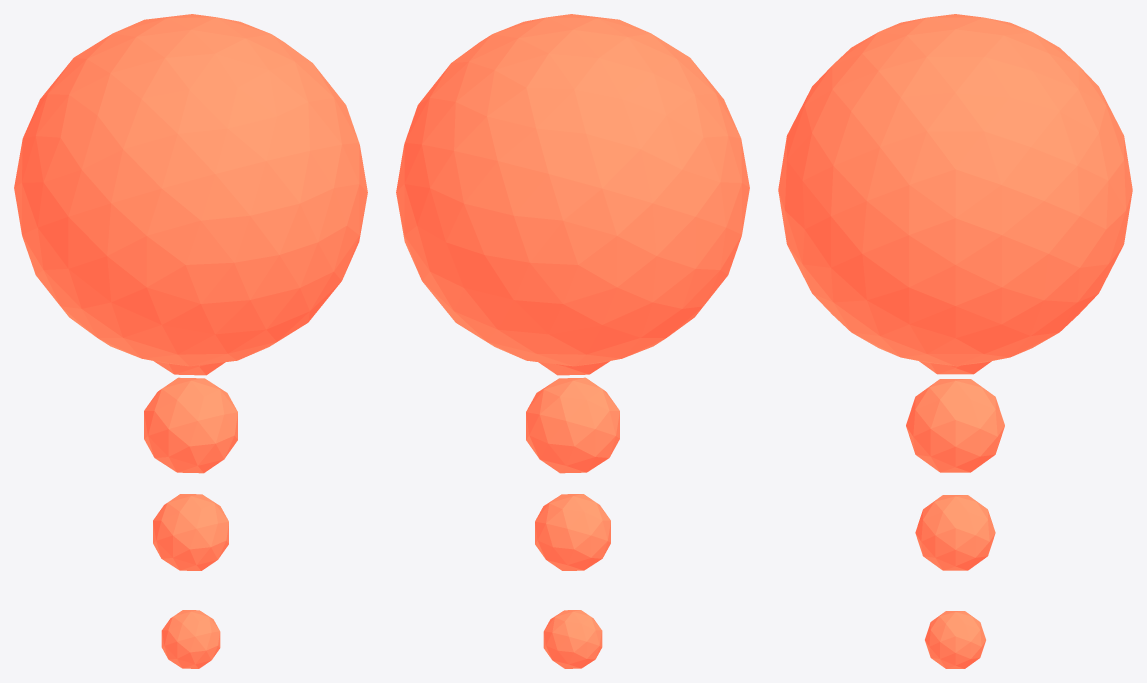
Rendered from sinal_luz_vermelha.glb.
The picture shows the model from 3 angles, left to right: view 1: azimuth 30°, elevation 25°; view 2: azimuth 150°, elevation 25°; view 3: azimuth 270°, elevation 25°; orthographic projection.
Visible parts, largest first — view 1: sinal_luz_vermelha_clarao_sinal_vermelho; view 2: sinal_luz_vermelha_clarao_sinal_vermelho; view 3: sinal_luz_vermelha_clarao_sinal_vermelho.
Part boxes in pixels (left/top/right/bottom): sinal_luz_vermelha_clarao_sinal_vermelho: left=14, top=14, right=367, bottom=668; sinal_luz_vermelha_clarao_sinal_vermelho: left=396, top=14, right=749, bottom=668; sinal_luz_vermelha_clarao_sinal_vermelho: left=778, top=14, right=1132, bottom=668.
Size of the model in its own units: 0.15 by 0.298 by 0.15.
